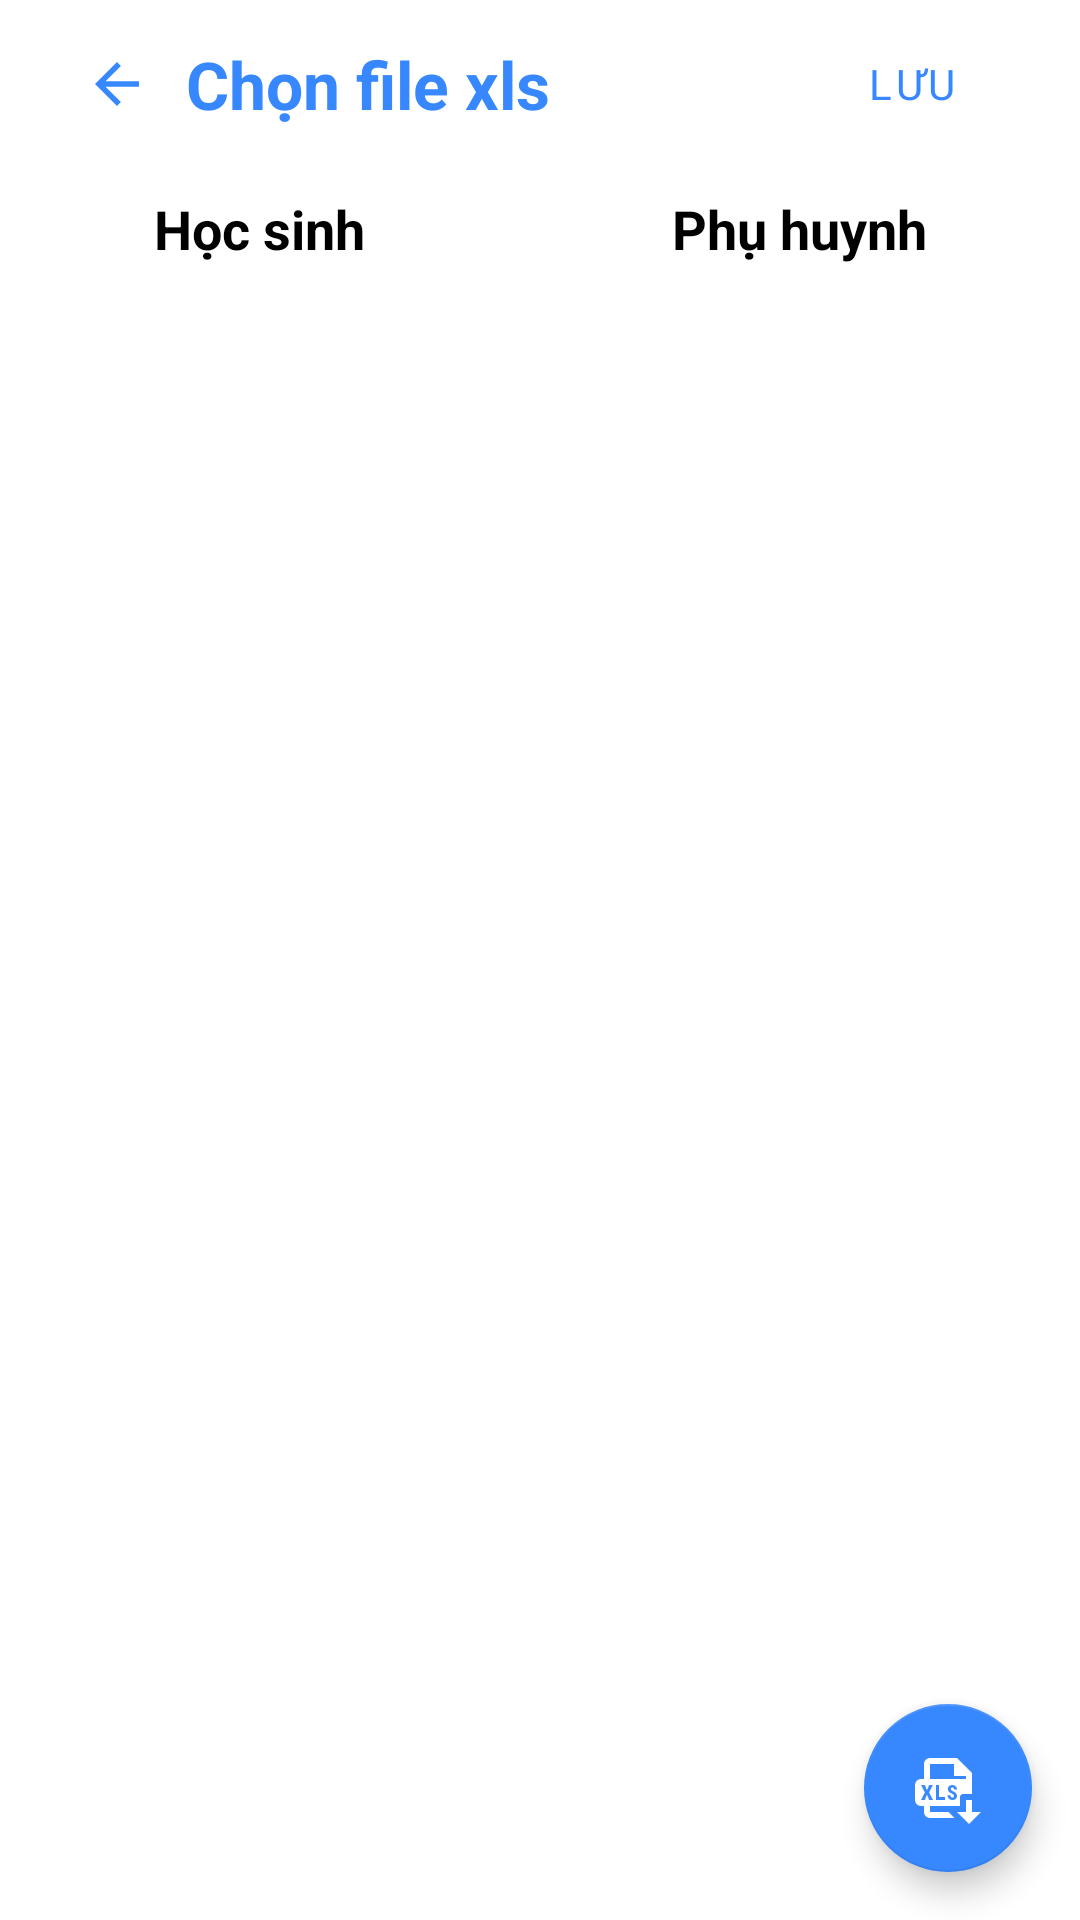

Locate icon controls on the screen. Image size 1080 × 1920, boxes as (x1, y1, x2, y2).
arrow back: (95, 62, 139, 106)
xls file: (864, 1704, 1032, 1872)
